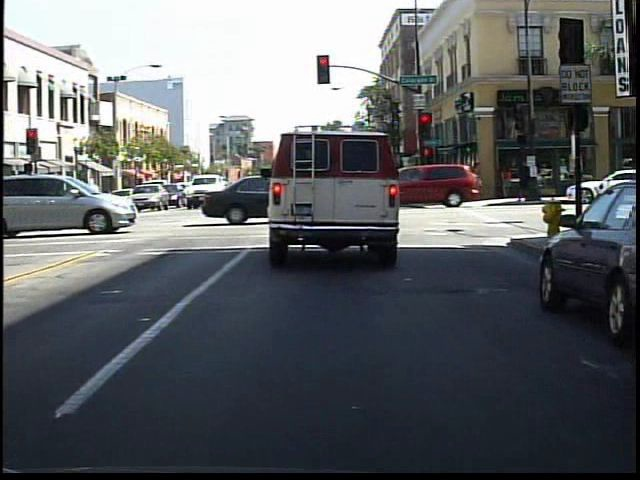person: (514, 156, 534, 206), (496, 159, 516, 200)
